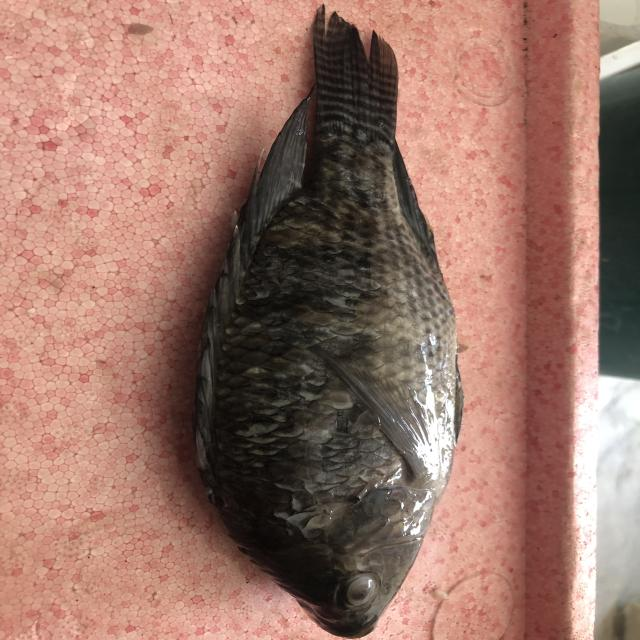Eye -1-: (337, 572, 394, 606)
Skin-5-: (194, 152, 463, 484)
Tilapia-F-6-10-: (175, 3, 490, 640)
